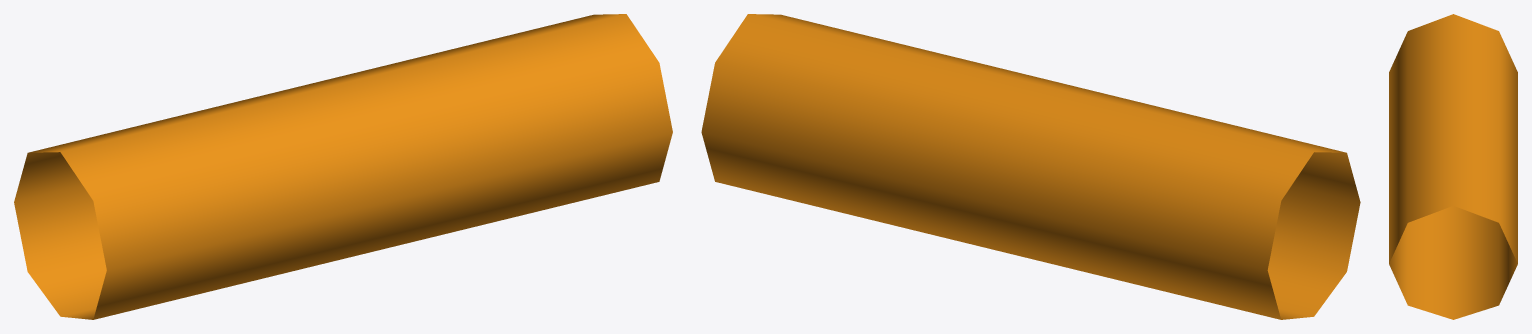
File: Pipe_1_C_1_1.glb
The picture shows the model from 3 angles, left to right: view 1: azimuth 30°, elevation 25°; view 2: azimuth 150°, elevation 25°; view 3: azimuth 270°, elevation 25°; orthographic projection. The views are drawn at different scales.
Parts seen in each view (by area): view 1: Pipe_1_C_1_1; view 2: Pipe_1_C_1_1; view 3: Pipe_1_C_1_1.
Boxes of the visible parts, bbox=[...] form: Pipe_1_C_1_1: bbox=[14, 14, 672, 319]; Pipe_1_C_1_1: bbox=[701, 14, 1360, 319]; Pipe_1_C_1_1: bbox=[1389, 14, 1517, 319].
Size of the model in its own units: 0.7672 by 0.2131 by 0.218.
1 material, 1 textured.
